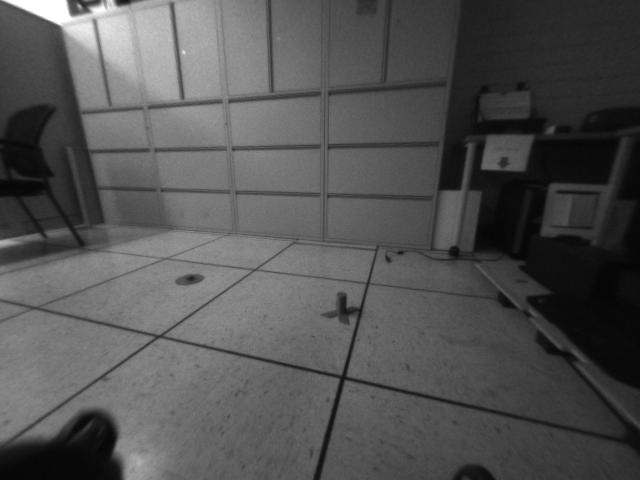X: (316, 291, 364, 327)
